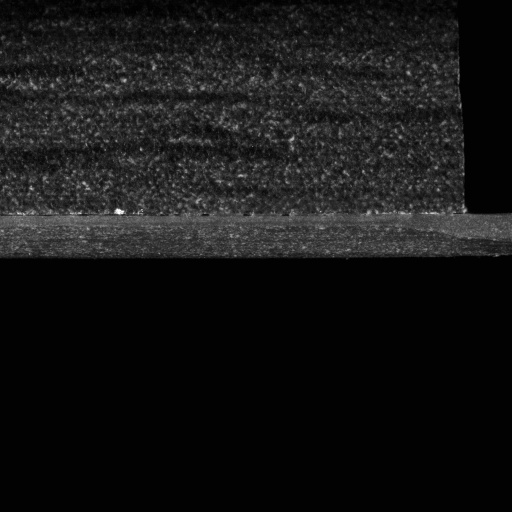changdai: (464, 210, 511, 260)
